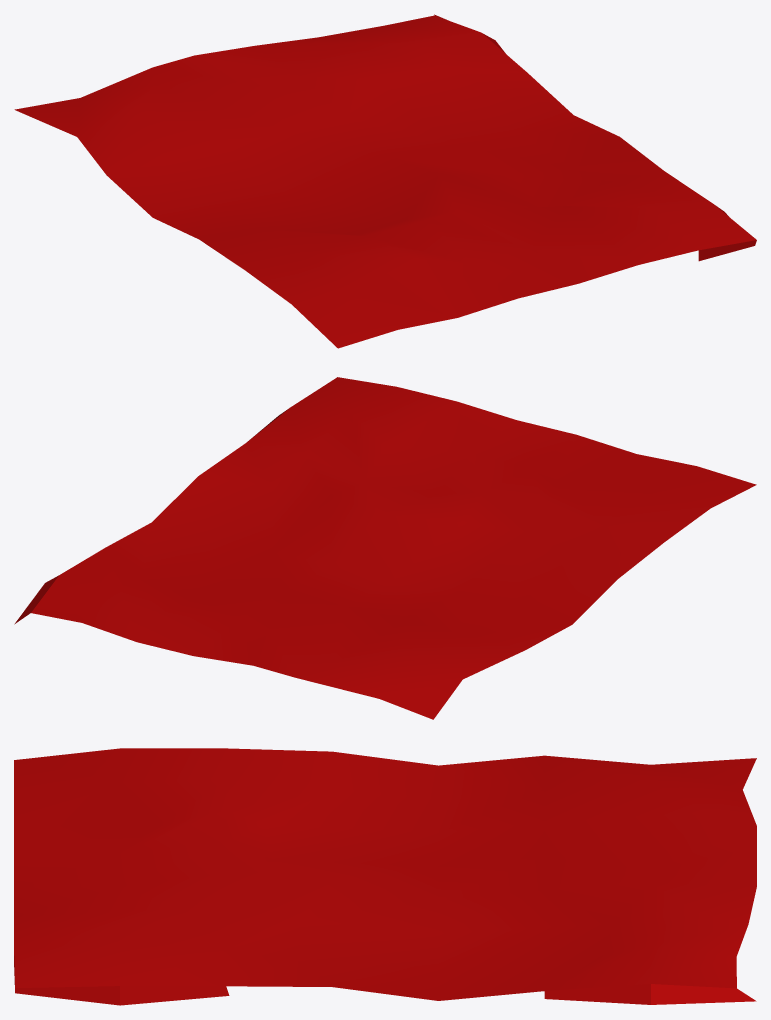
The model's file is SM_GlassaArena_New.fbx.
3 views of the same model, one above another, from view 1: azimuth 30°, elevation 25°; view 2: azimuth 150°, elevation 25°; view 3: azimuth 270°, elevation 25° (orthographic). The views are drawn at different scales.
Visible parts, largest first — view 1: Glassa; view 2: Glassa; view 3: Glassa.
Part boxes in pixels (bbox=[...]): Glassa: bbox=[14, 14, 756, 348]; Glassa: bbox=[14, 377, 756, 719]; Glassa: bbox=[14, 748, 756, 1005].
Size of the model in its own units: 12.41 by 0.6511 by 16.
